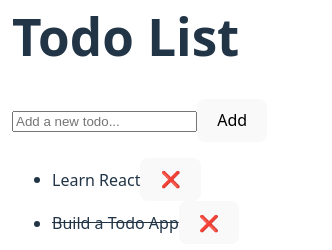
Scenario: TodoList Component › deletes a todo
Click the button "❌" next to "Learn React".
click(171, 180)  # box [140,158,201,201]
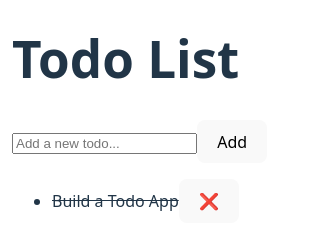
Expected: the list item "Learn React" is gone
